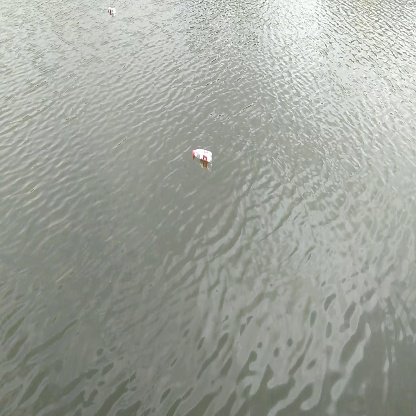bottle: (189, 145, 214, 165)
